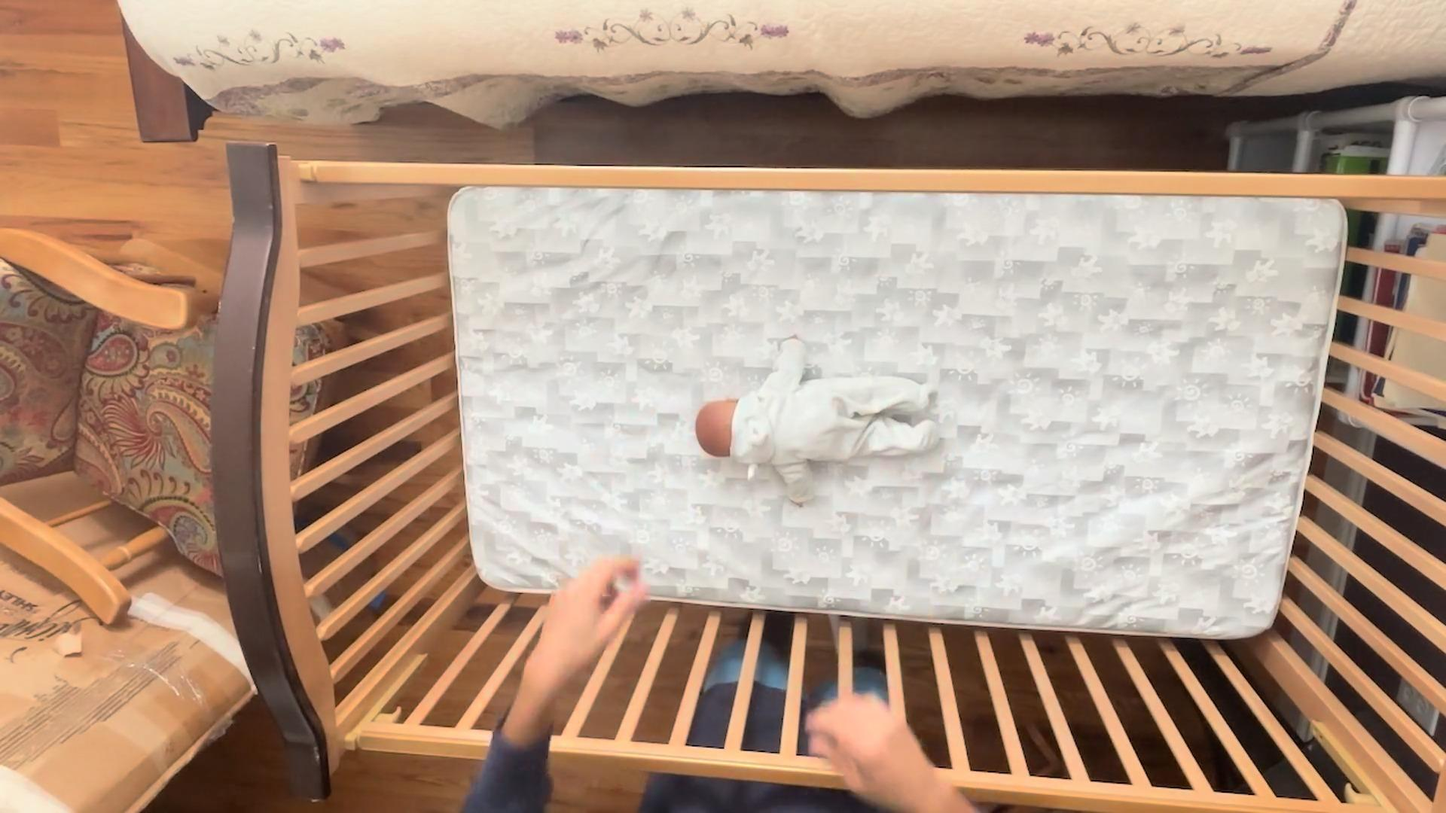baby: (695, 328, 940, 516)
